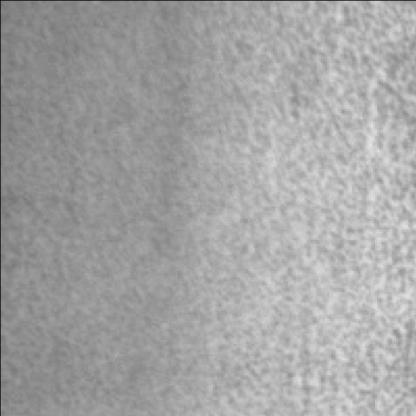pitted_surface: (2, 6, 220, 416), (213, 6, 414, 416)
